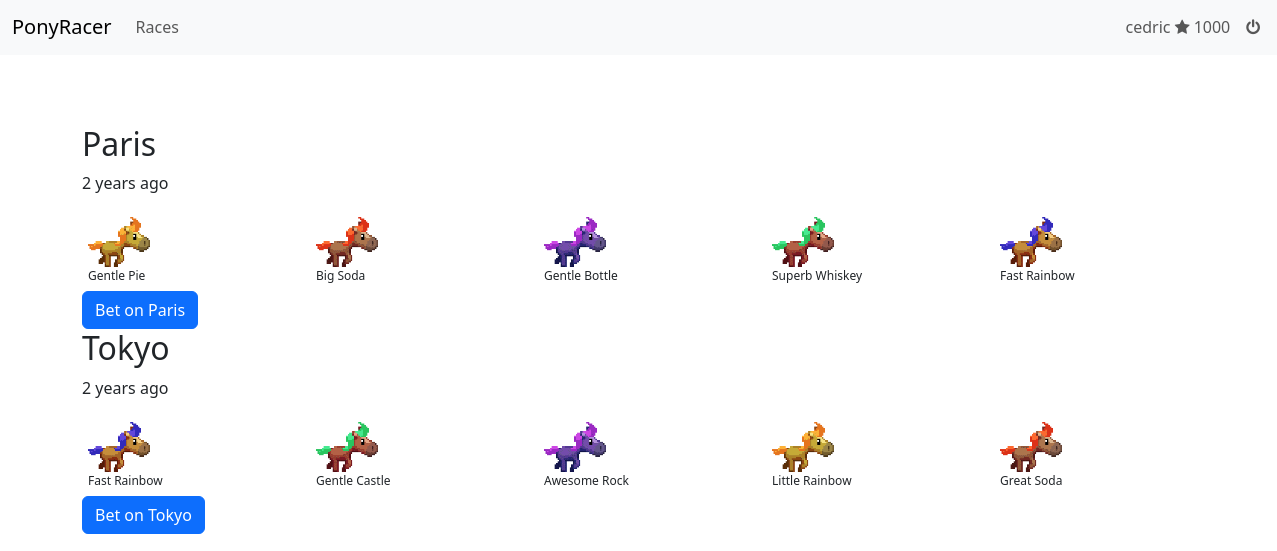
it: Ponyracer › should log out the user
This screenshot has width=1277, height=551.
Expected: the element with id "current-user" shows "cedric", [1126,16,1175,38]
Expected: the element with id "current-user" shows "1000", [1190,16,1231,38]
Click the element with class "fa-power-off". click: (1253, 27)
box: [1246,19,1260,35]
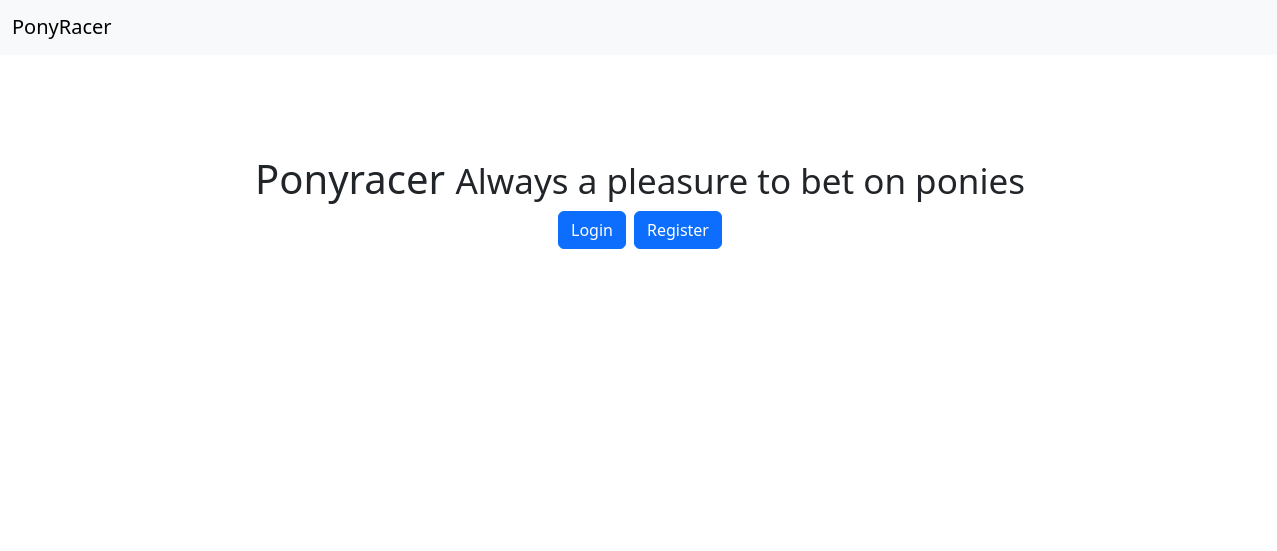
Now the link with class "nav-link" is gone
Now the element with id "current-user" is gone
